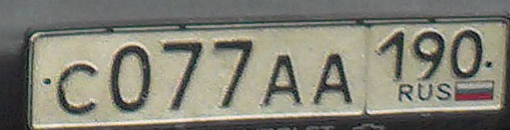character: (157, 36, 202, 112), (301, 48, 358, 108), (106, 41, 154, 111), (207, 37, 254, 108), (260, 51, 306, 110), (57, 58, 102, 117), (447, 24, 483, 77), (411, 29, 446, 80), (376, 28, 409, 82)
